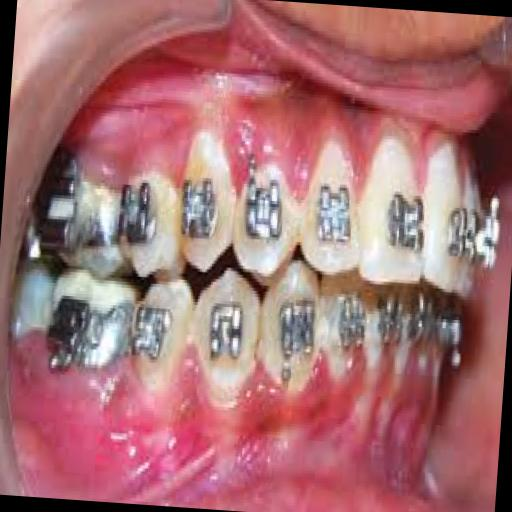correct_brace: (184, 262, 264, 416), (172, 119, 240, 270), (239, 152, 288, 247), (380, 179, 432, 261), (312, 178, 359, 256), (203, 296, 248, 370)
incorrect_brace: (295, 128, 370, 281), (178, 176, 220, 250)
